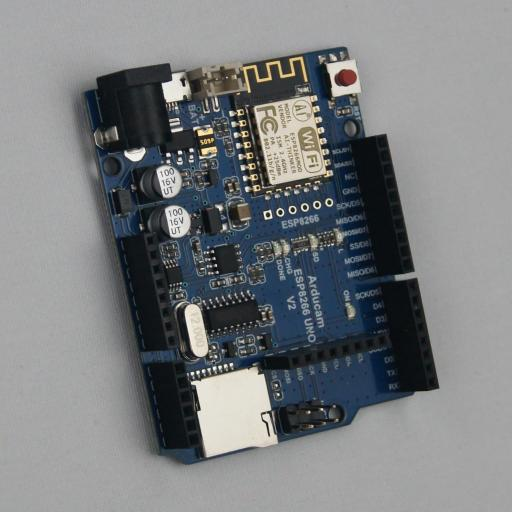Arduino Uno Camera Shield: (74, 46, 439, 464)
